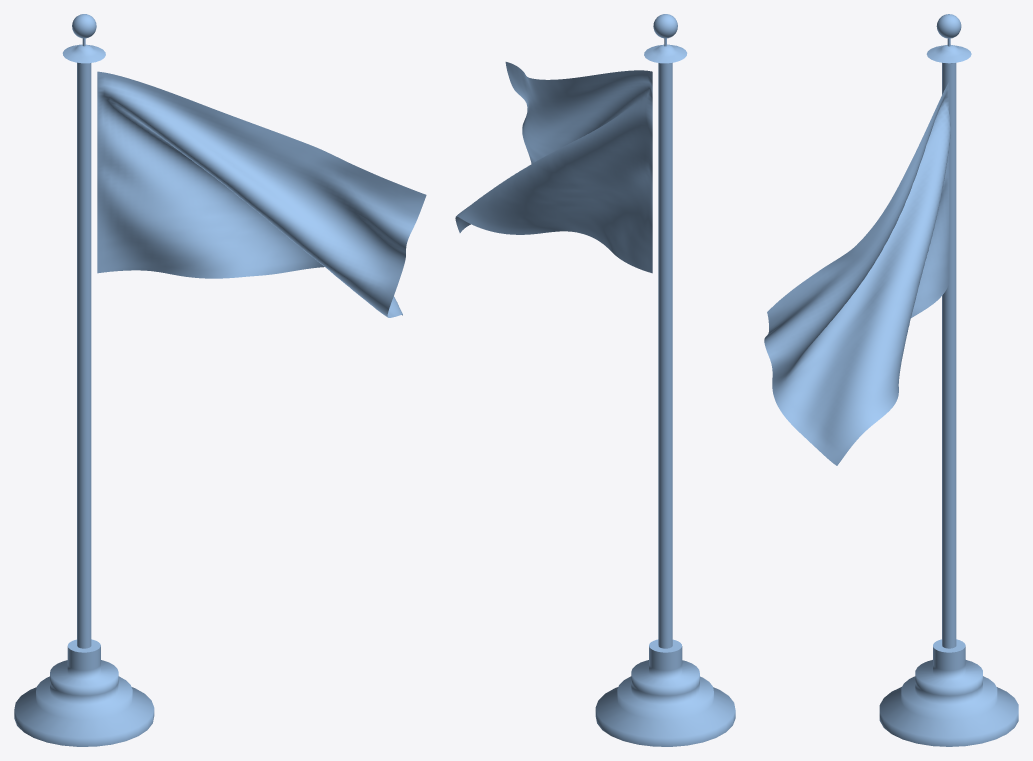
The model's file is flag.dae.
3 views of the same model, side by side, from view 1: azimuth 30°, elevation 25°; view 2: azimuth 150°, elevation 25°; view 3: azimuth 270°, elevation 25° (orthographic).
Parts seen in each view (by area): view 1: Plane001, Cylinder001, Cylinder002; view 2: Plane001, Cylinder001, Cylinder002, GeoSphere001, GeoSphere003; view 3: Plane001, Cylinder001, Cylinder002, GeoSphere001, GeoSphere003.
Boxes of the visible parts, <box> form: Plane001: <box>97,71,426,317</box>; Cylinder001: <box>14,639,154,746</box>; Cylinder002: <box>77,62,91,648</box>; Plane001: <box>455,62,652,273</box>; Cylinder001: <box>595,639,735,746</box>; Cylinder002: <box>658,62,672,648</box>; GeoSphere001: <box>644,44,687,63</box>; GeoSphere003: <box>653,14,677,38</box>; Plane001: <box>764,81,950,465</box>; Cylinder001: <box>879,639,1018,746</box>; Cylinder002: <box>942,62,956,648</box>; GeoSphere001: <box>926,45,971,63</box>; GeoSphere003: <box>936,14,961,38</box>.
Bounding box in the file's own units: 9.09 × 6.22 × 18.94.
